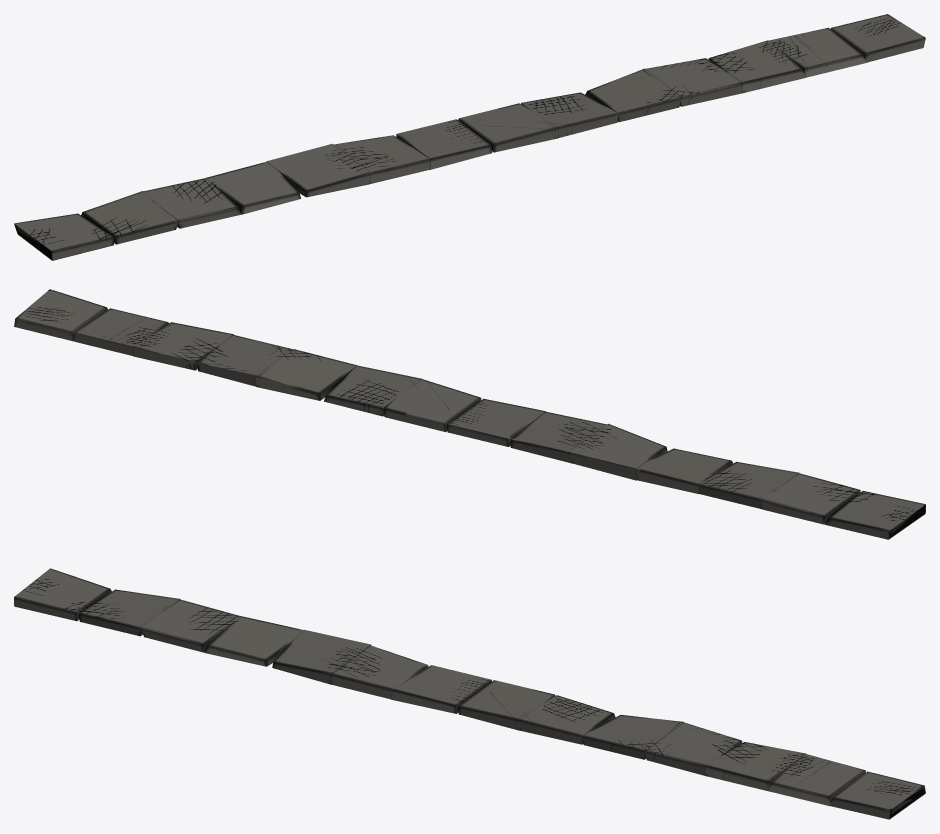
Rendered from PavementPiece_03.fbx.
3 views of the same model, one above another, from view 1: azimuth 30°, elevation 25°; view 2: azimuth 150°, elevation 25°; view 3: azimuth 330°, elevation 25° (orthographic).
Parts seen in each view (by area): view 1: PavementPiece_03; view 2: PavementPiece_03; view 3: PavementPiece_03.
Part boxes in pixels (<box>): PavementPiece_03: <box>14,14,925,260</box>; PavementPiece_03: <box>14,289,925,539</box>; PavementPiece_03: <box>14,568,925,819</box>.
Size of the model in its own units: 1400 by 18.25 by 110.
